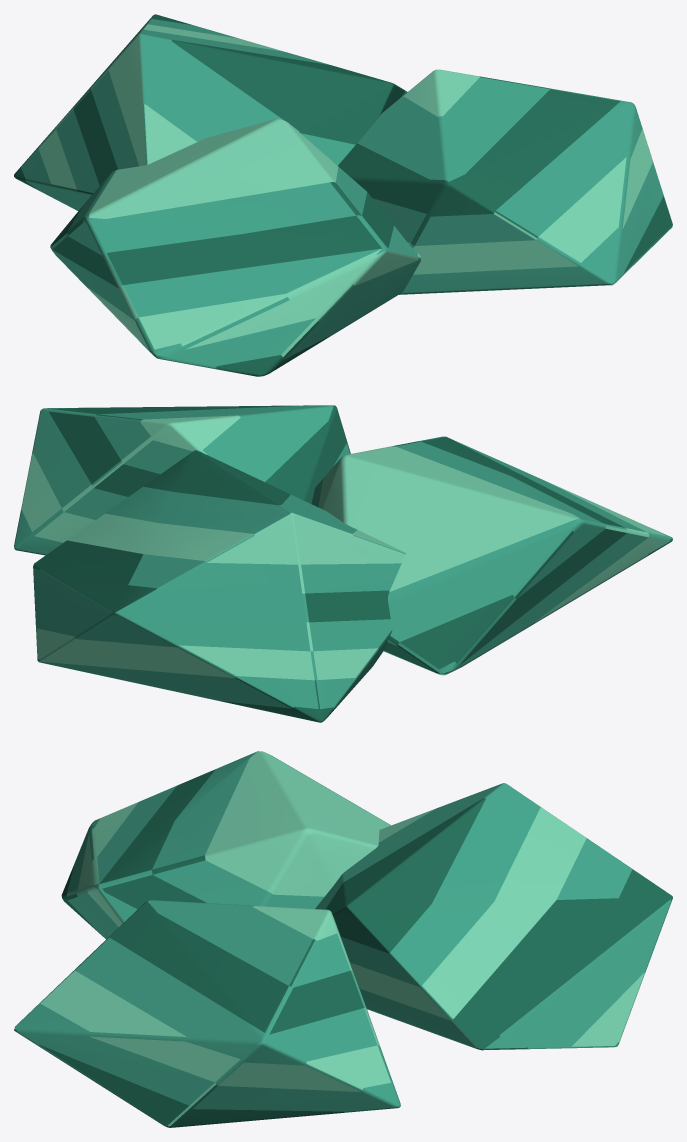
File: minerai_cuivre_2.glb
The picture shows the model from 3 angles, top to bottom: view 1: azimuth 30°, elevation 25°; view 2: azimuth 150°, elevation 25°; view 3: azimuth 270°, elevation 25°; orthographic projection. The views are drawn at different scales.
Visible parts, largest first — view 1: minerai_malachite.004, minerai_malachite_claire.004, minerai_malachite_sombre.004; view 2: minerai_malachite.004, minerai_malachite_claire.004, minerai_malachite_sombre.004; view 3: minerai_malachite.004, minerai_malachite_claire.004, minerai_malachite_sombre.004.
Part boxes in pixels (<box>): minerai_malachite.004: <box>21,15,672,368</box>; minerai_malachite_claire.004: <box>38,24,672,356</box>; minerai_malachite_sombre.004: <box>14,14,672,376</box>; minerai_malachite.004: <box>14,405,672,708</box>; minerai_malachite_claire.004: <box>21,415,668,680</box>; minerai_malachite_sombre.004: <box>33,405,671,722</box>; minerai_malachite.004: <box>14,751,672,1126</box>; minerai_malachite_claire.004: <box>40,751,644,1126</box>; minerai_malachite_sombre.004: <box>39,769,672,1127</box>.
Bounding box in the file's own units: 0.5079 × 0.1389 × 0.5073.
